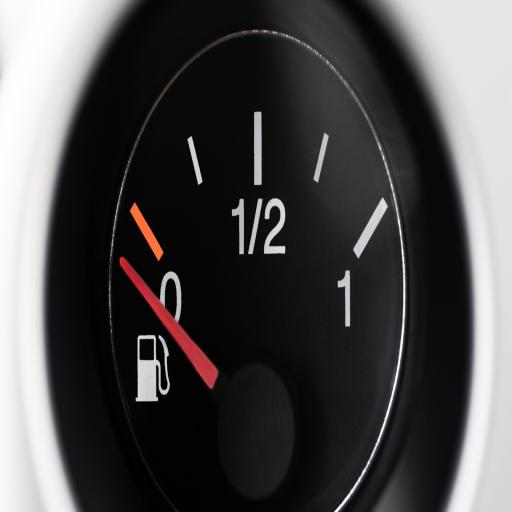fuel_icon: (128, 322, 168, 423)
full: (331, 262, 361, 347)
guage_area: (104, 18, 408, 512)
needle_center: (195, 342, 292, 502)
needle_tip: (117, 252, 134, 276)
